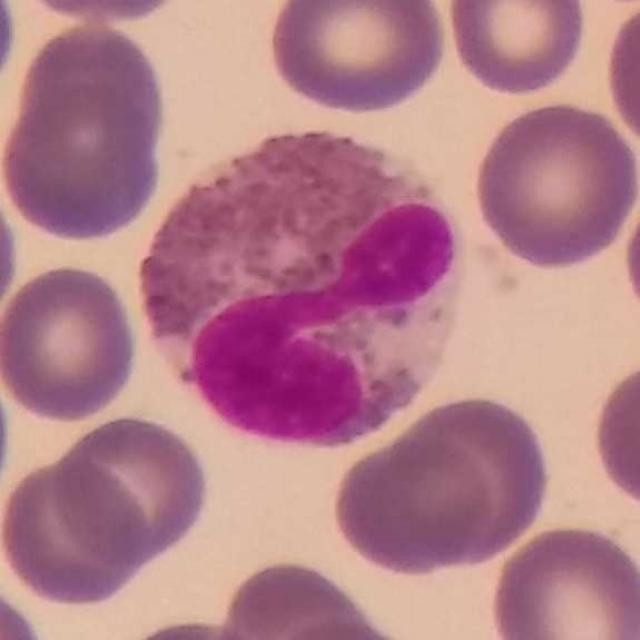eosino: (134, 127, 468, 450)
